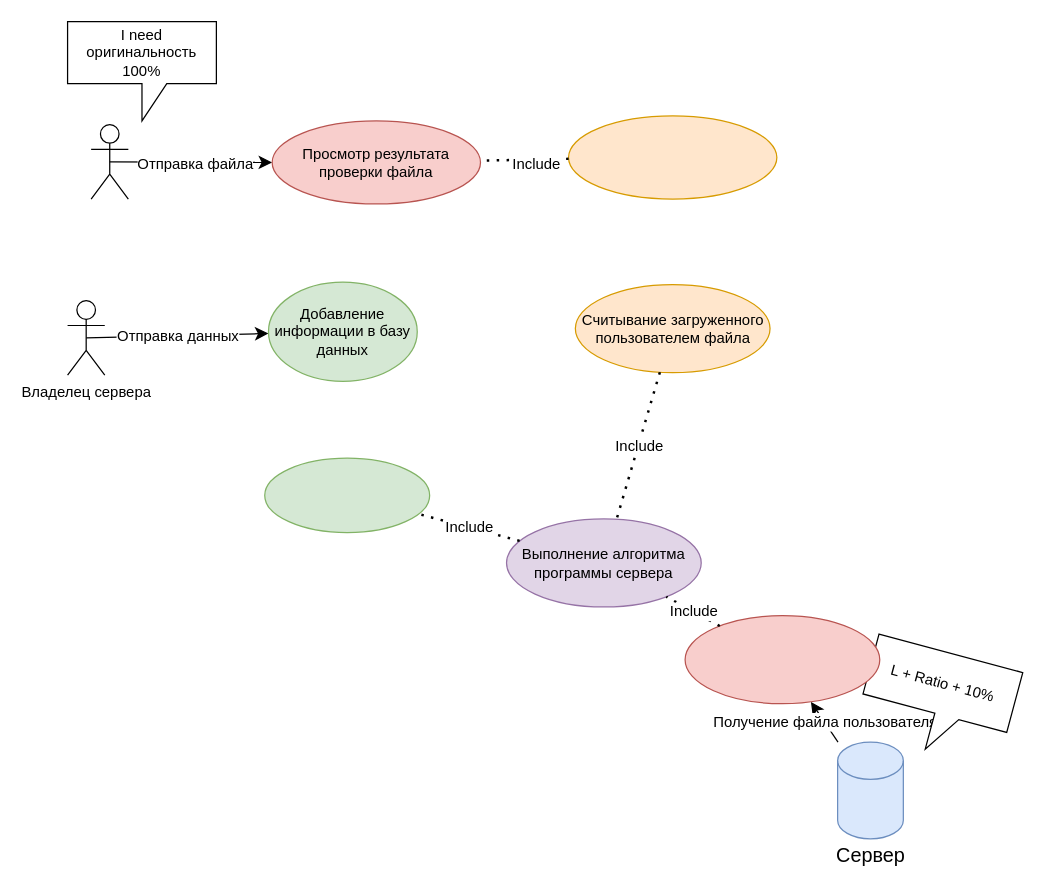
Image size: 1044x895. Some labels were removed from this diagram. The box of each missing label's shape, as (x1, y1, x2, y2) in pixels:
Загрузка файла на сервер: (567, 115, 777, 199)
Получение проверочных данных с базы данных: (264, 457, 430, 533)
Пользователь: (90, 123, 128, 199)
Формирование отчёта о оригинальности файла пользователя: (684, 614, 880, 704)
